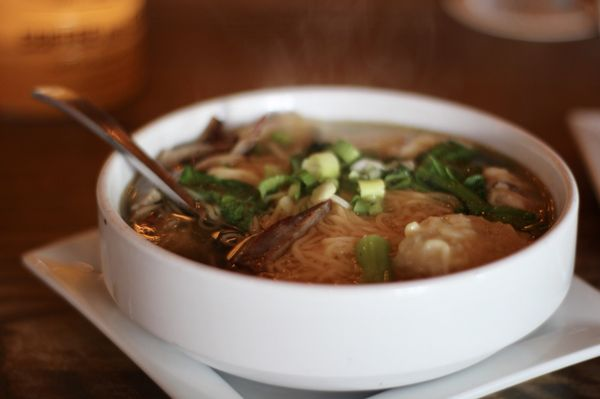salad: (32, 82, 208, 220)
sushi: (95, 82, 593, 392)
